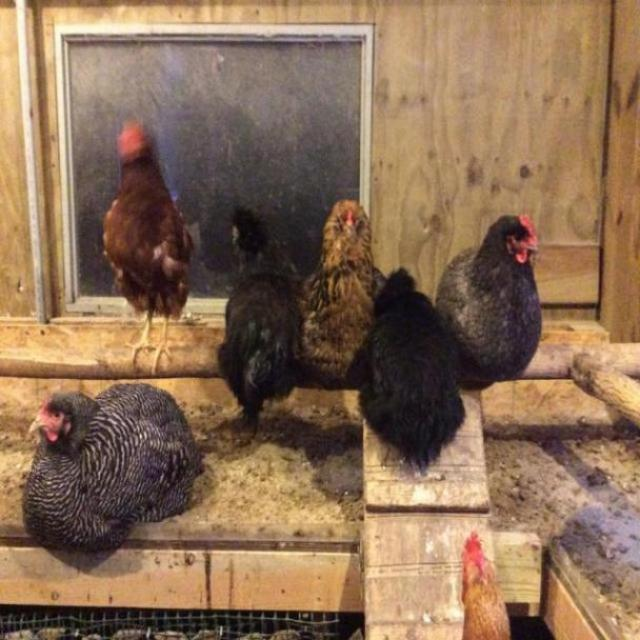Chicken: (23, 383, 216, 566), (100, 118, 203, 384), (342, 265, 467, 484), (215, 198, 310, 454), (296, 194, 396, 404), (432, 209, 543, 385), (457, 527, 515, 639)
